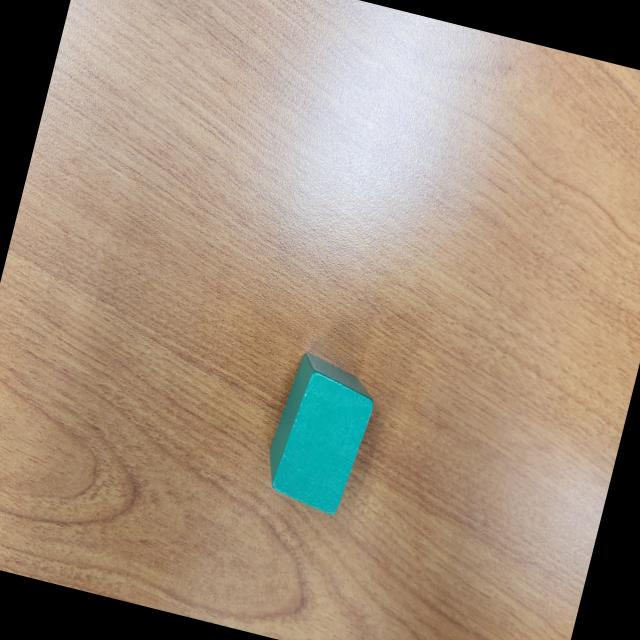green: (256, 350, 382, 520)
